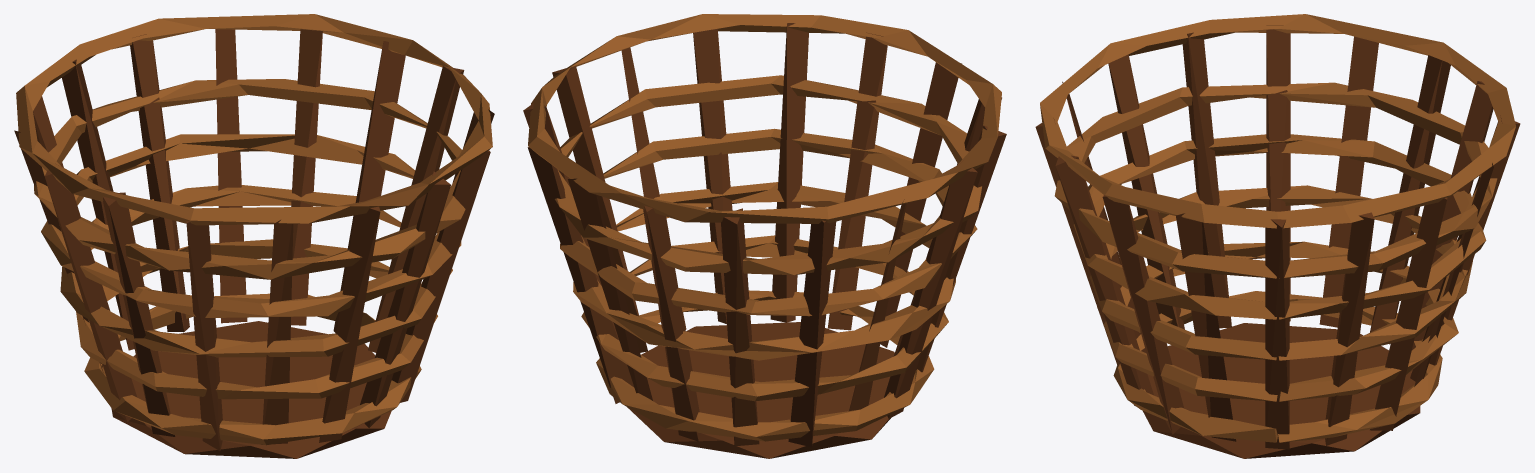
The model's file is Cesto_trancado_LOD1.fbx.
The picture shows the model from 3 angles, left to right: view 1: azimuth 30°, elevation 25°; view 2: azimuth 150°, elevation 25°; view 3: azimuth 270°, elevation 25°; orthographic projection.
Visible parts, largest first — view 1: Cesto_trancado_LOD1; view 2: Cesto_trancado_LOD1; view 3: Cesto_trancado_LOD1.
Boxes of the visible parts, x1,y1,x2,y2 form: Cesto_trancado_LOD1: (14,14,494,458); Cesto_trancado_LOD1: (523,14,1006,458); Cesto_trancado_LOD1: (1035,14,1520,458).
Bounding box in the file's own units: 84.18 × 54.73 × 84.18.
Materials: 1 (1 with a texture image).
